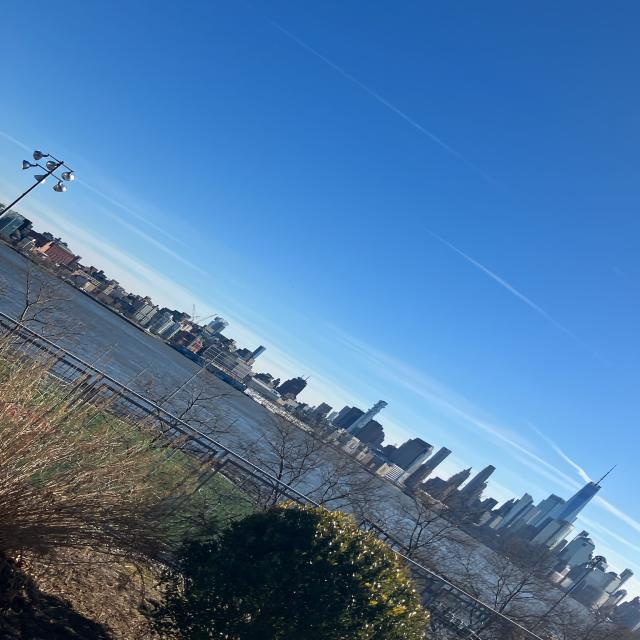WTC: (553, 460, 624, 523)
